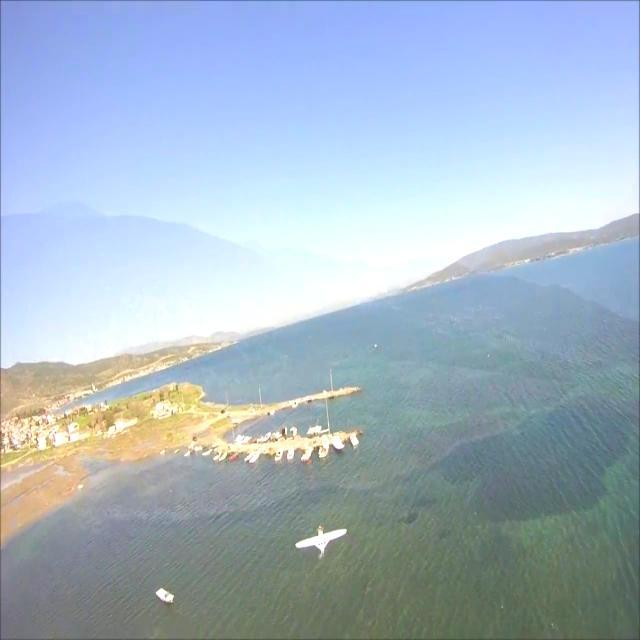iha: (292, 522, 349, 565)
